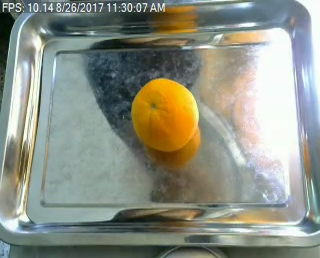Orange: (129, 77, 198, 150)
